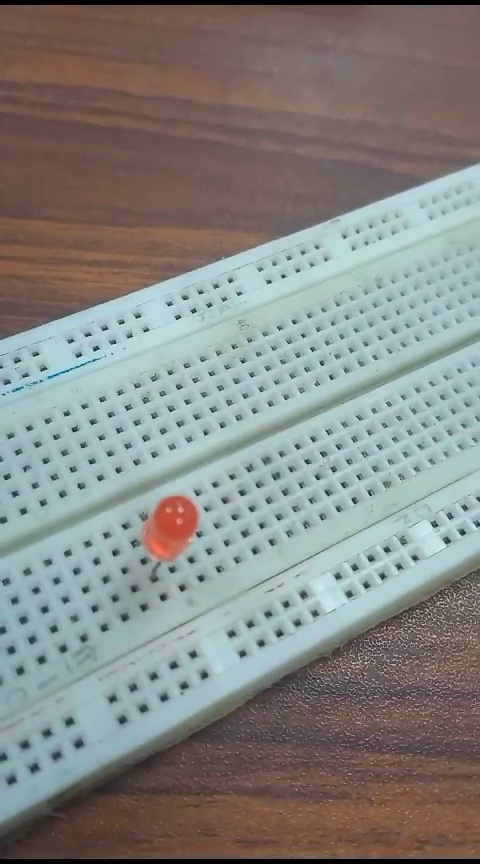LED: (140, 489, 194, 584)
